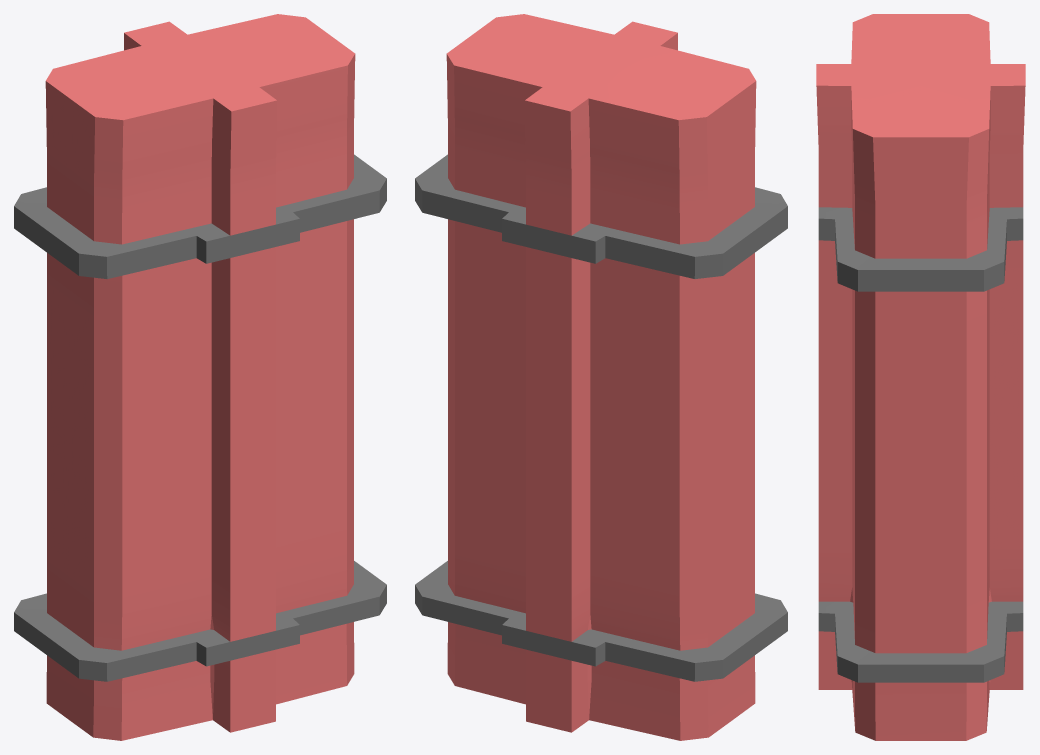
The model's file is PillarWindow.fbx.
The picture shows the model from 3 angles, left to right: view 1: azimuth 30°, elevation 25°; view 2: azimuth 150°, elevation 25°; view 3: azimuth 270°, elevation 25°; orthographic projection. The views are drawn at different scales.
Visible parts, largest first — view 1: DoorTest007; view 2: DoorTest007; view 3: DoorTest007.
Part boxes in pixels (<box>): DoorTest007: <box>14,14,386,740</box>; DoorTest007: <box>415,14,787,740</box>; DoorTest007: <box>816,14,1025,740</box>.
Bounding box in the file's own units: 1.69 × 3.26 × 1.02.
